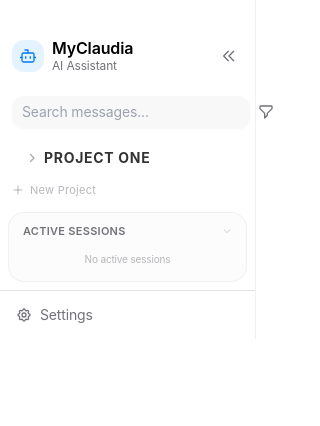
Sidebar › shows new project form when New Project is clicked
Click the button "New Project" at (128, 190), box [8,176,247,204]
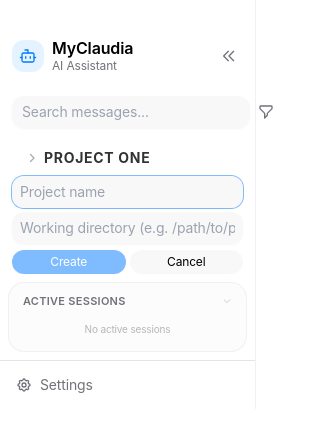
Expected: the field with placeholder "Project name" is shown, [12,176,243,208]
Expected: the field with placeholder "Working directory (e.g. /path/to/project)" is shown, [12,212,243,244]
